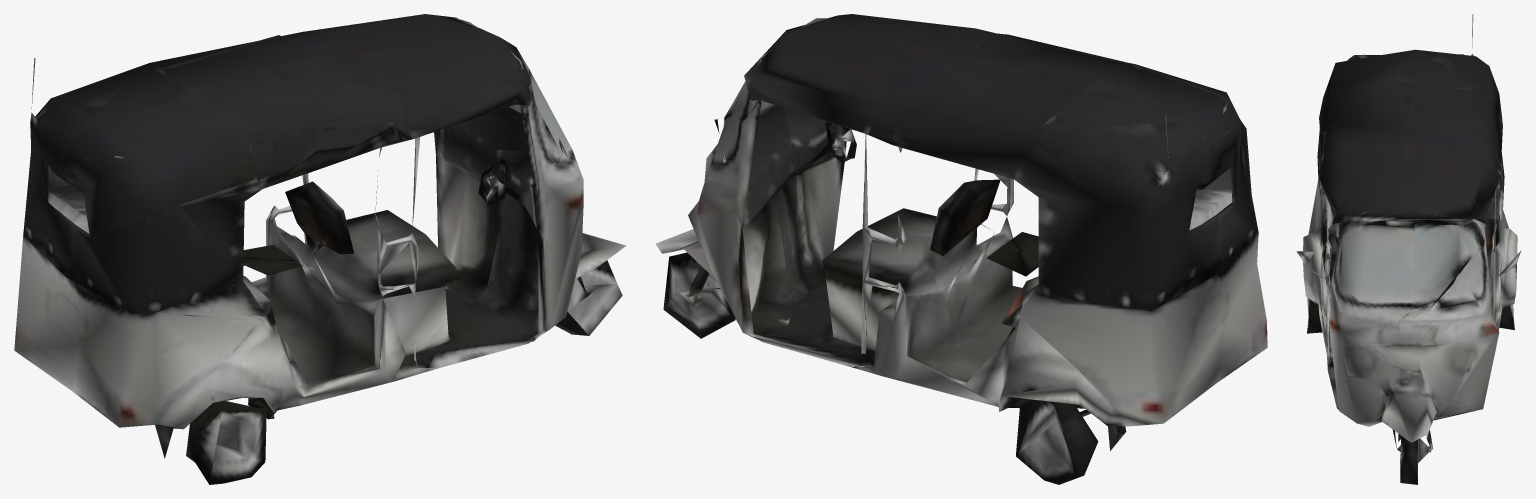
File: tuk_2.glb
3 views of the same model, side by side, from view 1: azimuth 30°, elevation 25°; view 2: azimuth 150°, elevation 25°; view 3: azimuth 270°, elevation 25° (orthographic). The views are drawn at different scales.
Visible parts, largest first — view 1: tripo_node_17fd145a-8675-4ac6-bb4f-7950712a3b92; view 2: tripo_node_17fd145a-8675-4ac6-bb4f-7950712a3b92; view 3: tripo_node_17fd145a-8675-4ac6-bb4f-7950712a3b92.
Boxes of the visible parts, x1,y1,x2,y2 form: tripo_node_17fd145a-8675-4ac6-bb4f-7950712a3b92: (14, 14, 626, 484); tripo_node_17fd145a-8675-4ac6-bb4f-7950712a3b92: (655, 14, 1267, 484); tripo_node_17fd145a-8675-4ac6-bb4f-7950712a3b92: (1296, 14, 1521, 484).
Bounding box in the file's own units: 0.9995 × 0.635 × 0.4541.
1 material, 1 textured.
